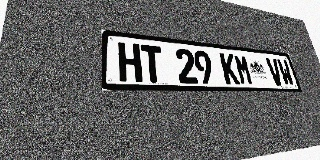2: (175, 48, 198, 84)
9: (193, 50, 215, 84)
H: (118, 42, 142, 82)
K: (219, 53, 240, 85)
M: (233, 54, 254, 85)
T: (140, 44, 164, 83)
V: (265, 58, 284, 86)
W: (276, 59, 295, 86)
